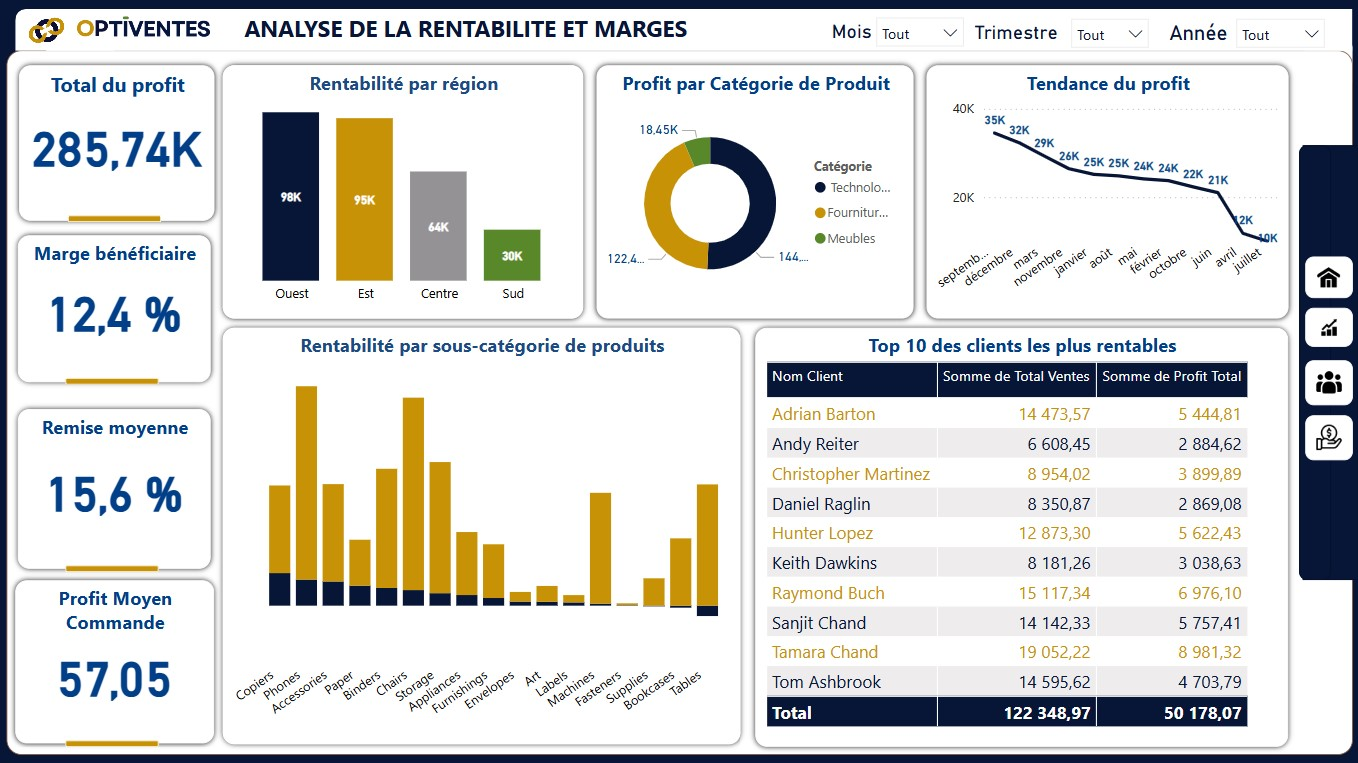

Layout of this report page (visuals, bound fields, positions):
{"tool":"powerbi","page":{"name":"Tableau de bord 3- R&M","canvas":[1280,720],"ordinal":5},"visuals":[{"type":"textbox","title":"ANALYSE DES VENTES PAR CATÉGORIE ET LOCALISATION","box":[90.7,15.1,589.5,26.7],"z":0},{"type":"shape","box":[1228.9,40.8,44.7,40.8],"z":1000},{"type":"shape","box":[6.6,48.7,1267.1,663.2],"z":2000},{"type":"shape","box":[44.7,9.2,1228.9,39.5],"z":3000},{"type":"shape","box":[15.1,9.3,93,39.5],"z":4000},{"type":"tableEx","title":"Top 10 des clients les plus rentables","fields":{"Values":["Top 5 Clients Rentables.Nom Client","Sum(Top 5 Clients Rentables.Total Ventes)","Sum(Top 5 Clients Rentables.Profit Total)"]},"box":[711.8,309.2,501.3,394.7],"z":5000},{"type":"card","title":"Total du profit","fields":{"Values":["Ensemble Mesures.Total Profit"]},"box":[18.4,61.8,184.2,146.1],"z":6000},{"type":"card","title":"Marge bénéficiaire","fields":{"Values":["Ensemble Mesures.Marge Bénéficiaire"]},"box":[17.1,222.4,181.6,138.2],"z":7000},{"type":"card","title":"Remise moyenne","fields":{"Values":["Ensemble Mesures.Remise Moyenne"]},"box":[17.1,385.5,181.6,150],"z":8000},{"type":"card","title":" Profit Moyen Commande ","fields":{"Values":["Ensemble Mesures.Profit Moyen Commande"]},"box":[15.8,547.4,186.8,153.9],"z":9000},{"type":"donutChart","title":"Profit par Catégorie de Produit","fields":{"Category":["Produits_data.Catégorie"],"Y":["Ensemble Mesures.Total Profit"]},"box":[561.8,61.8,298.7,238.2],"z":10000},{"type":"lineChart","title":"Tendance du profit","fields":{"Category":["Calendrier.Mois"],"Y":["Ensemble Mesures.Total Profit"]},"box":[872.4,61.8,340.8,238.2],"z":11000},{"type":"columnChart","title":"Rentabilité par région","fields":{"Y":["Ensemble Mesures.Total Profit"],"Category":["Clients_data.Région"],"Series":["Clients_data.Région"]},"box":[210.5,61.8,339.5,238.2],"z":12000},{"type":"textbox","title":"ANALYSE DE LA RENTABILITE ET MARGES","box":[202.6,13.2,473.7,28.9],"z":13000},{"type":"shape","box":[1227.6,138.2,52.6,409.2],"z":14000},{"type":"shape","box":[1223.7,138.2,30.3,409.2],"z":15000},{"type":"image","box":[1228.9,290.8,44.7,36.8],"z":16000},{"type":"image","box":[1228.9,242.1,44.7,39.5],"z":17000},{"type":"image","box":[1228.9,339.5,44.7,42.1],"z":18000},{"type":"shape","box":[64.5,203.9,88.2,6.6],"z":19000},{"type":"shape","box":[61.8,356.6,88.2,6.6],"z":20000},{"type":"shape","box":[61.8,532.9,88.2,6.6],"z":21000},{"type":"shape","box":[61.8,697.4,88.2,6.6],"z":22000},{"type":"columnChart","title":"Rentabilité par  sous-catégorie de produits","fields":{"Category":["Produits_data.Sous-Catégorie"],"Y":["Ensemble Mesures.Total Profit","Ensemble Mesures.Total Ventes","Ensemble Mesures.Total Ventes"]},"box":[210.5,309.2,486.8,392.1],"z":23000},{"type":"slicer","title":"Produits","fields":{"Values":["Calendrier.Année"]},"box":[815.8,6.6,102.6,40.8],"z":24000},{"type":"textbox","title":"Mois","box":[778.9,19.7,73.7,23.7],"z":25000},{"type":"slicer","title":"Produits","fields":{"Values":["Calendrier.Trimestre"]},"box":[998.7,7.9,93.4,42.1],"z":26000},{"type":"textbox","title":"Trimestre","box":[913.2,21.1,96.1,26.3],"z":27000},{"type":"textbox","title":"Année","box":[1096.1,21.1,73.7,23.7],"z":28000},{"type":"slicer","title":"Produits","fields":{"Values":["Calendrier.Année"]},"box":[1153.9,7.9,103.9,42.1],"z":29000},{"type":"image","box":[5.3,0,85.5,61.8],"z":30000},{"type":"image","box":[13.2,1.3,247.4,61.8],"z":31000},{"type":"image","box":[1228.9,392.1,44.7,42.1],"z":32000}]}

Visuals, with their boxes in screenshot pixels (x1, y1, x2, y2), scaled from the page's 1280x720 canvas onto the 1358x763 screenshot:
"ANALYSE DES VENTES PAR CATÉGORIE ET LOCALISATION" textbox: l=96, t=16, r=722, b=44
shape: l=1304, t=43, r=1351, b=86
shape: l=7, t=52, r=1351, b=754
shape: l=47, t=10, r=1351, b=52
shape: l=16, t=10, r=115, b=52
"Top 10 des clients les plus rentables" tableEx: l=755, t=328, r=1287, b=746
"Total du profit" card: l=20, t=65, r=215, b=220
"Marge bénéficiaire" card: l=18, t=236, r=211, b=382
"Remise moyenne" card: l=18, t=409, r=211, b=567
" Profit Moyen Commande " card: l=17, t=580, r=215, b=743
"Profit par Catégorie de Produit" donutChart: l=596, t=65, r=913, b=318
"Tendance du profit" lineChart: l=926, t=65, r=1287, b=318
"Rentabilité par région" columnChart: l=223, t=65, r=584, b=318
"ANALYSE DE LA RENTABILITE ET MARGES" textbox: l=215, t=14, r=718, b=45
shape: l=1302, t=146, r=1357, b=580
shape: l=1298, t=146, r=1330, b=580
image: l=1304, t=308, r=1351, b=347
image: l=1304, t=257, r=1351, b=298
image: l=1304, t=360, r=1351, b=404
shape: l=68, t=216, r=162, b=223
shape: l=66, t=378, r=159, b=385
shape: l=66, t=565, r=159, b=572
shape: l=66, t=739, r=159, b=746
"Rentabilité par  sous-catégorie de produits" columnChart: l=223, t=328, r=740, b=743
"Produits" slicer: l=866, t=7, r=974, b=50
"Mois" textbox: l=826, t=21, r=905, b=46
"Produits" slicer: l=1060, t=8, r=1159, b=53
"Trimestre" textbox: l=969, t=22, r=1071, b=50
"Année" textbox: l=1163, t=22, r=1241, b=47
"Produits" slicer: l=1224, t=8, r=1334, b=53
image: l=6, t=0, r=96, b=65
image: l=14, t=1, r=276, b=67
image: l=1304, t=416, r=1351, b=460
